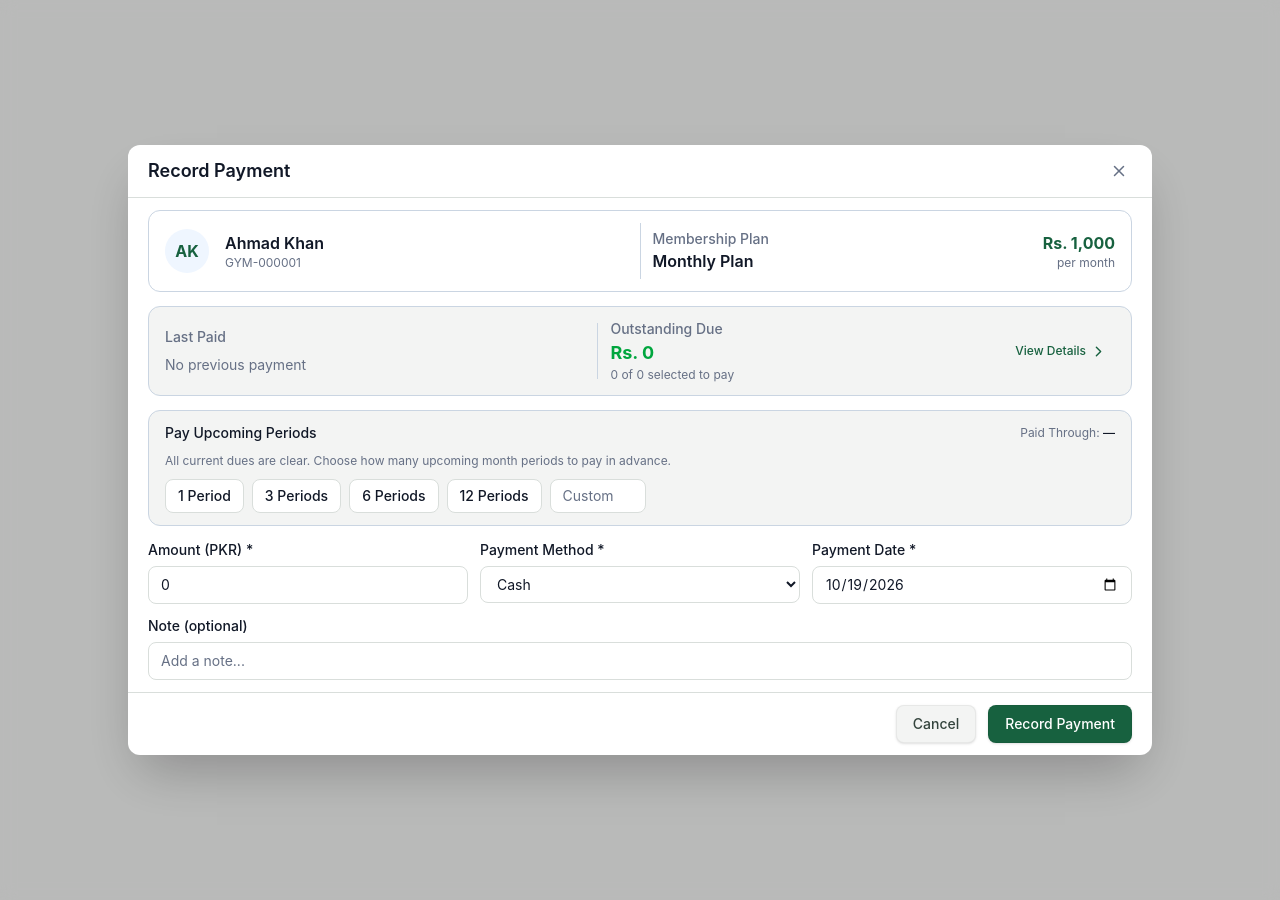
RecordPaymentModal period selection › surfaces an upcoming-period preview failure without blocking the form
The image size is (1280, 900).
Click the button "3 Periods" at (296, 496), box [252,479,341,513]
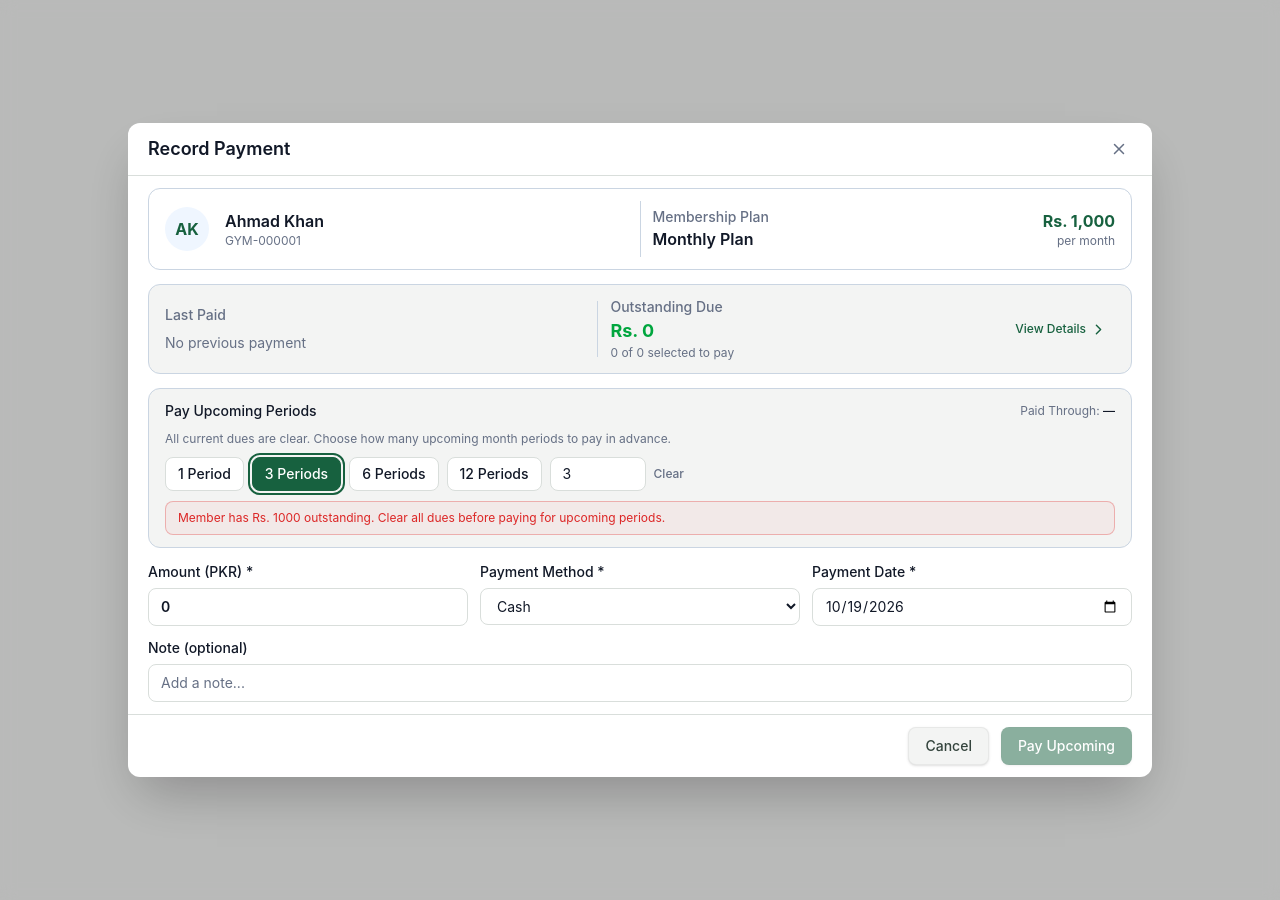
Check: the text "Member has Rs. 1000 outstanding. Clear all dues before paying for upcoming periods." is shown, box [178,510,665,525]
Check: the button "Pay Upcoming" is disabled, box [1001,727,1132,765]
